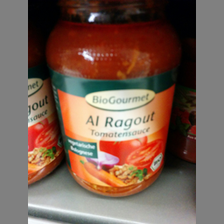tomato_sauce: (45, 2, 178, 197)
